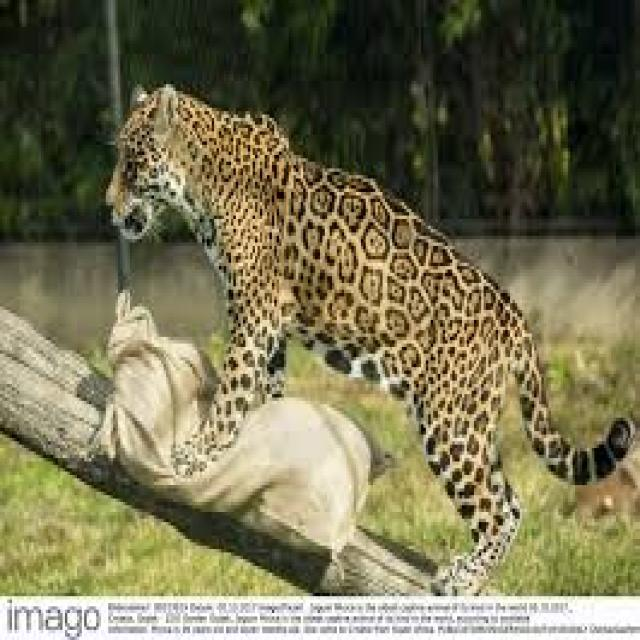Jaguar: (130, 98, 594, 522)
